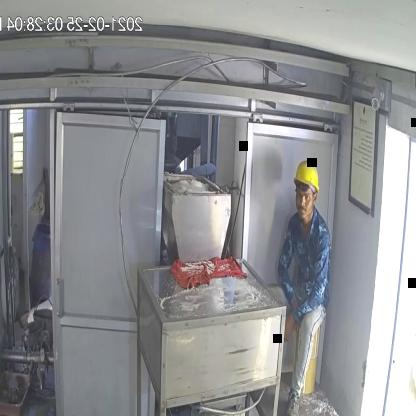helmet: (292, 149, 327, 204)
